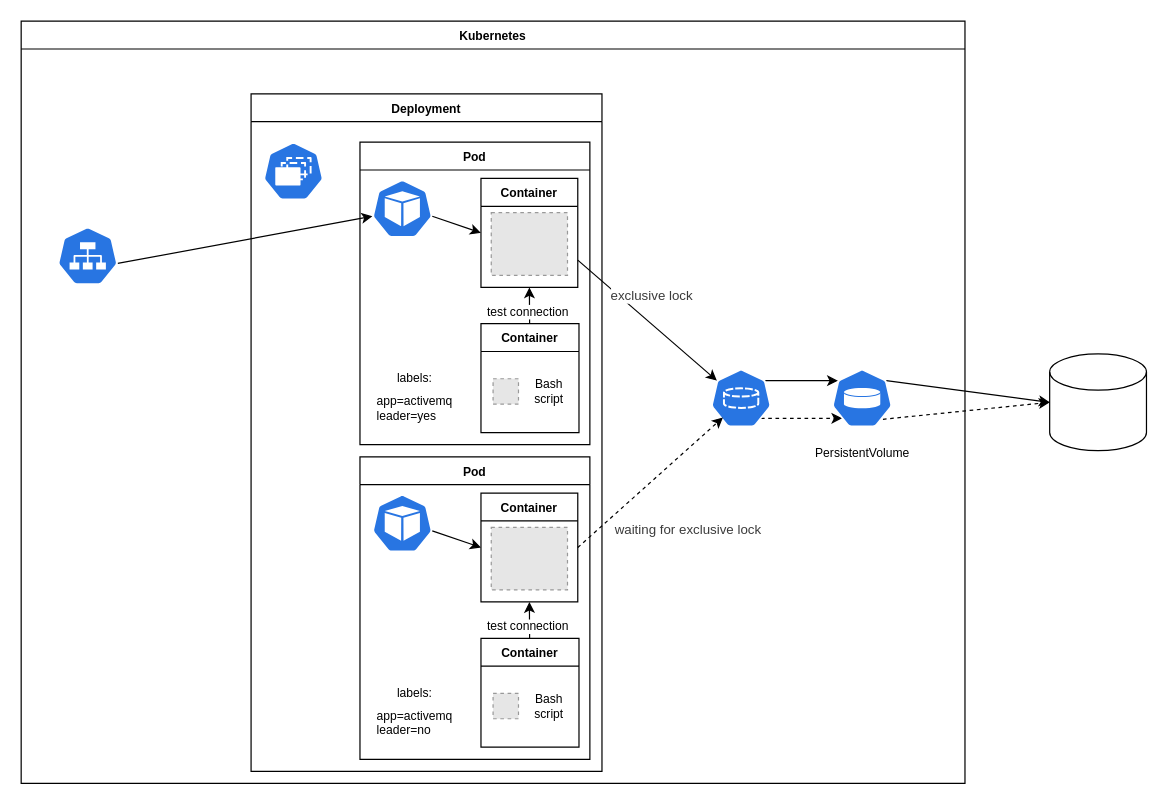
Image size: 1168x805. Some labels were removed from this diagram. Grey dashed boxes stand in for pictures. Each missing label, with the centre of its shape:
"NFS v4 storage" goes at [1097,402].
"PersistentVolumeClaim" goes at [740,397].
"Service" goes at [87,255].
